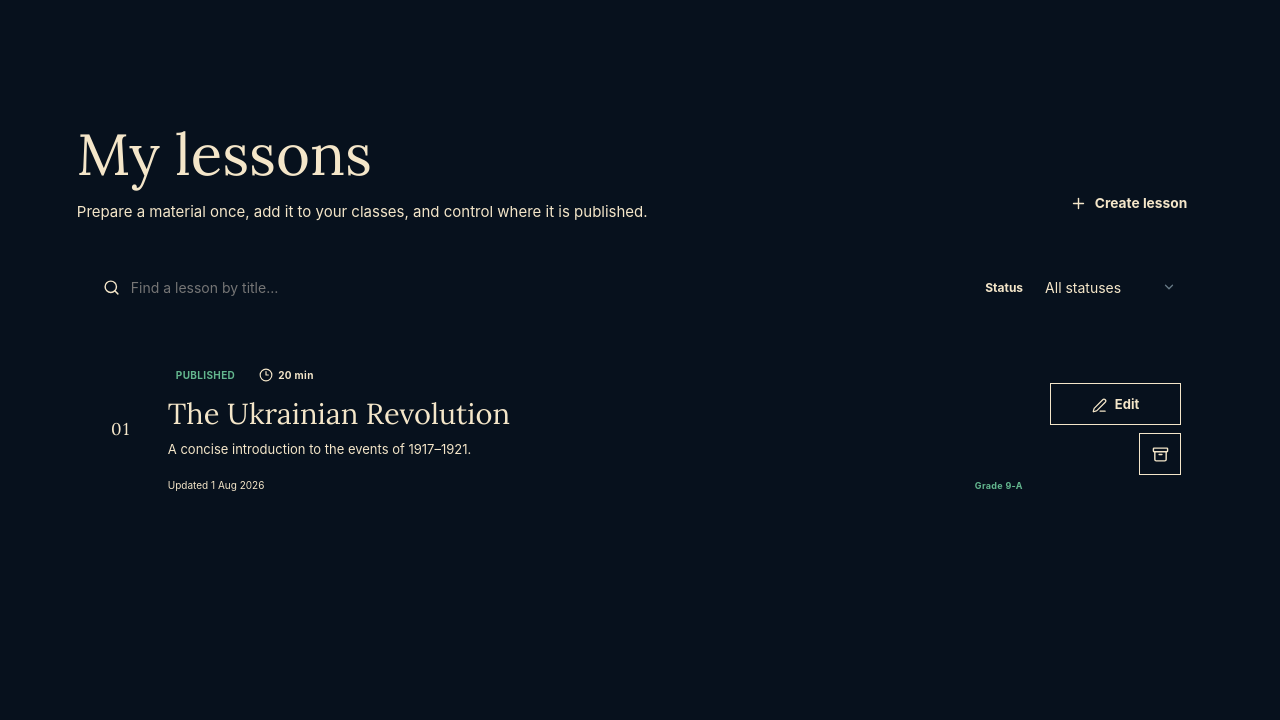
Test: teacher lesson workspace › renders large library rows and confirms archive inside the app
Later steps or results of the test are not shown.
expect the heading "The Ukrainian Revolution" is shown: met, box top-left (168, 395), bottom-right (510, 432)
expect the text "Grade 9-A" is shown: met, box top-left (975, 480), bottom-right (1023, 491)
Click the button named "Archive" at point(1160, 454), box top-left (1139, 433), bottom-right (1181, 475)
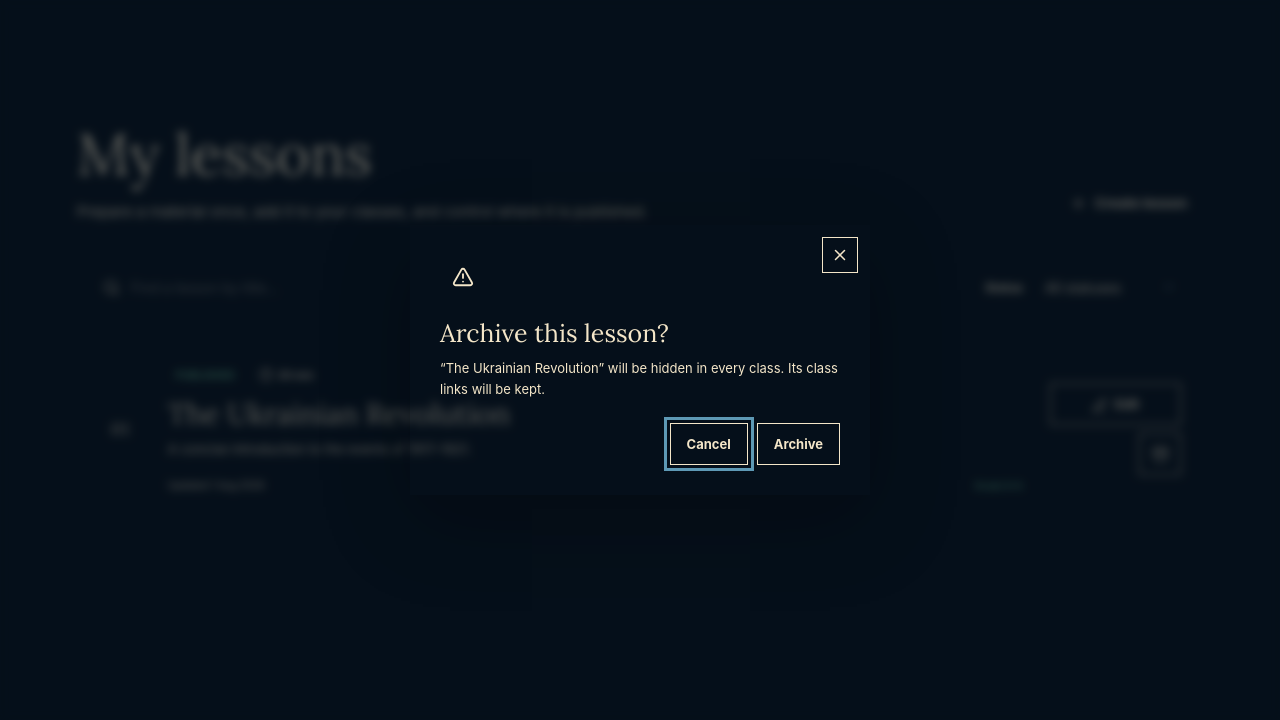
expect the dialog "Archive this lesson?" is shown: met, box top-left (410, 225), bottom-right (870, 495)
